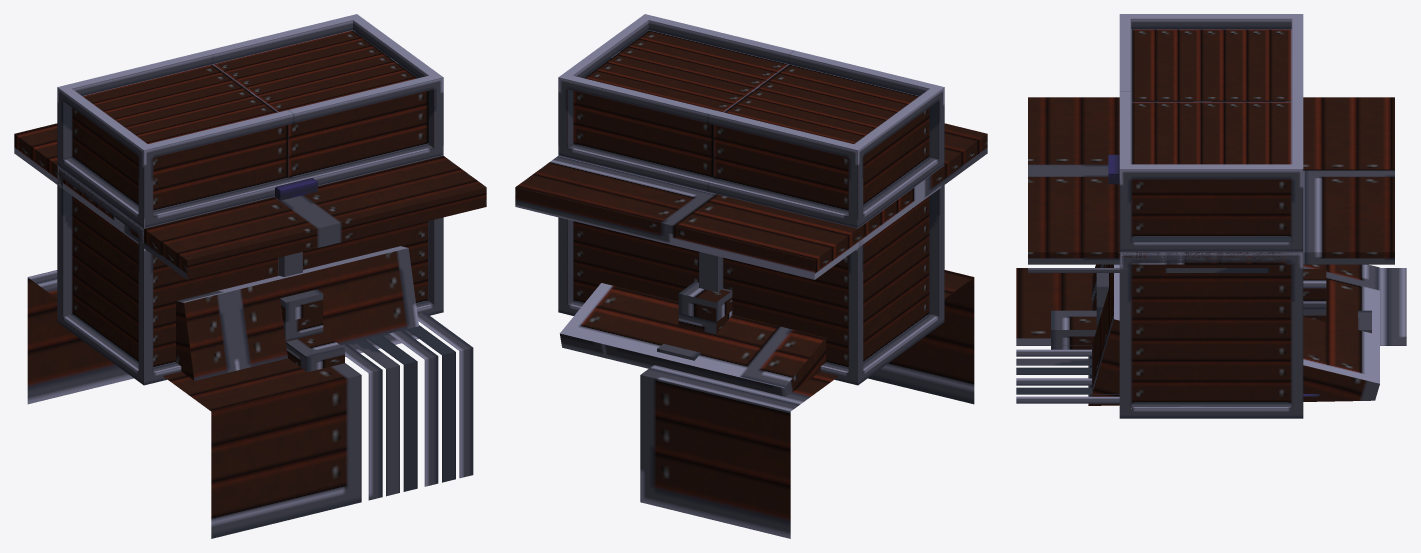
File: Decorations.fbx
3 views of the same model, side by side, from view 1: azimuth 30°, elevation 25°; view 2: azimuth 150°, elevation 25°; view 3: azimuth 270°, elevation 25° (orthographic). The views are drawn at different scales.
Parts seen in each view (by area): view 1: Chest, Pedestal, Table; view 2: Chest, Pedestal, Table; view 3: Chest, Table, Pedestal.
Boxes of the visible parts, x1,y1,x2,y2 form: Chest: [57, 14, 443, 385]; Pedestal: [27, 246, 473, 538]; Table: [14, 123, 486, 372]; Chest: [558, 14, 944, 385]; Pedestal: [559, 270, 974, 538]; Table: [515, 123, 987, 360]; Chest: [1108, 14, 1303, 418]; Table: [1028, 97, 1394, 349]; Pedestal: [1016, 264, 1406, 405].
Bounding box in the file's own units: 200 × 228 × 212.
Materials: 3 (3 with a texture image).
